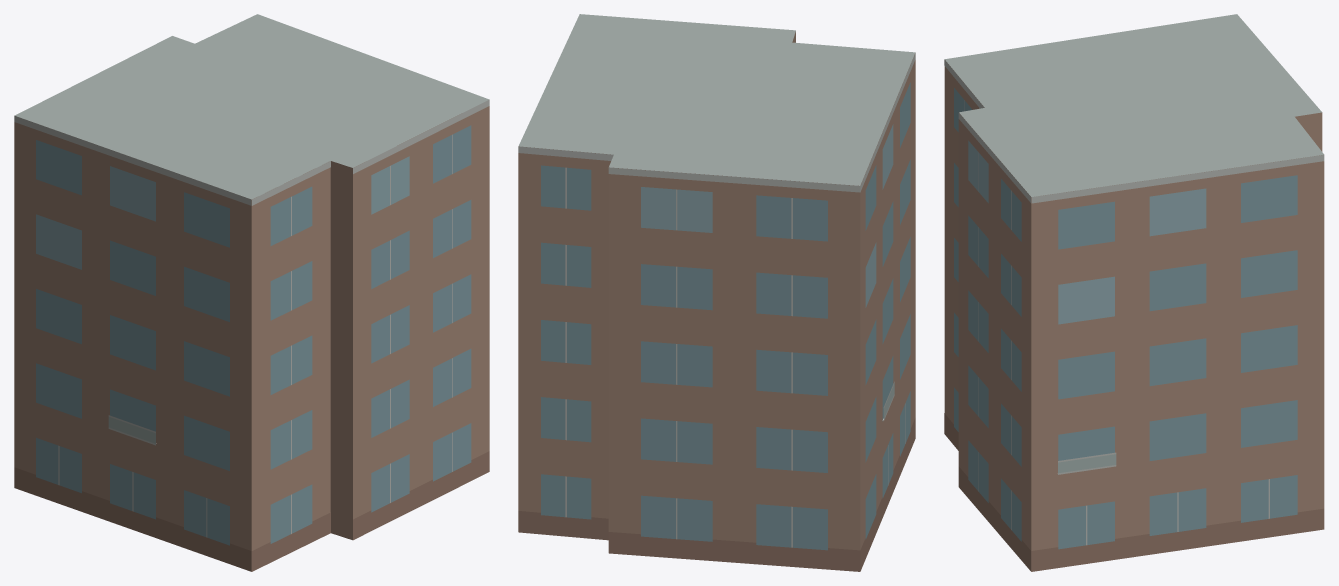
Rendered from survey-upis-32853120.glb.
3 views of the same model, side by side, from view 1: azimuth 30°, elevation 25°; view 2: azimuth 150°, elevation 25°; view 3: azimuth 270°, elevation 25° (orthographic). The views are drawn at different scales.
Parts seen in each view (by area): view 1: survey-upis-32853120.tmp; view 2: survey-upis-32853120.tmp; view 3: survey-upis-32853120.tmp.
Boxes of the visible parts, x1,y1,x2,y2 form: survey-upis-32853120.tmp: [14, 14, 489, 571]; survey-upis-32853120.tmp: [518, 14, 915, 571]; survey-upis-32853120.tmp: [944, 14, 1324, 571].
Bounding box in the file's own units: 14.89 × 14.2 × 13.06.
